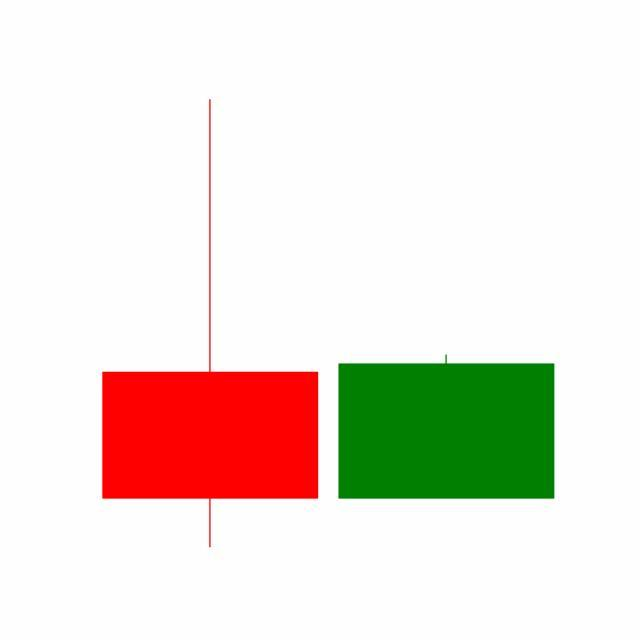Marubozu: (328, 354, 566, 501)
